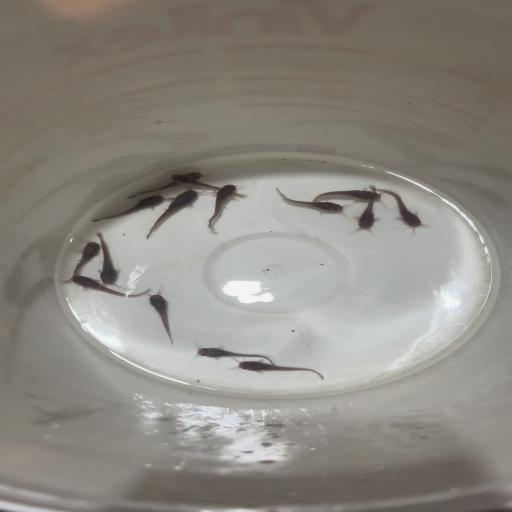lele: (138, 188, 203, 239), (230, 357, 326, 382), (127, 170, 206, 200), (87, 193, 166, 222), (170, 172, 249, 199), (381, 187, 431, 229), (143, 289, 180, 345), (71, 273, 152, 298), (58, 238, 102, 284), (272, 187, 346, 213), (348, 184, 386, 234), (190, 345, 280, 365), (204, 182, 240, 228), (94, 232, 123, 287), (309, 188, 385, 203)
